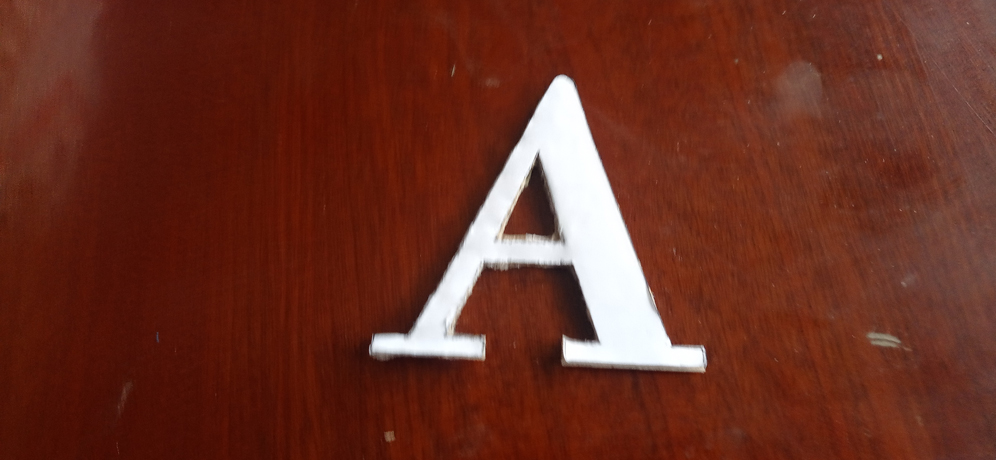a: (360, 76, 710, 374)
